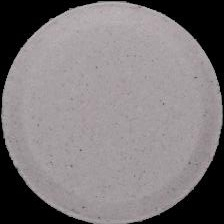21695-433: (0, 0, 224, 224)
